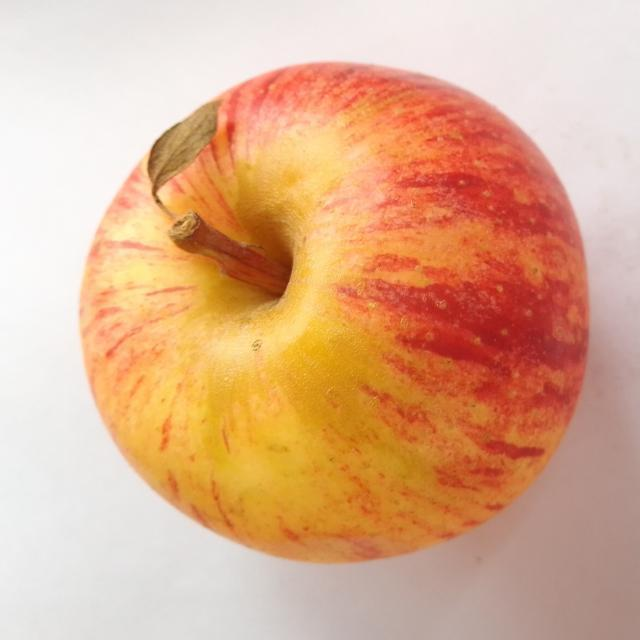Fresh Apple: (73, 53, 597, 572)
